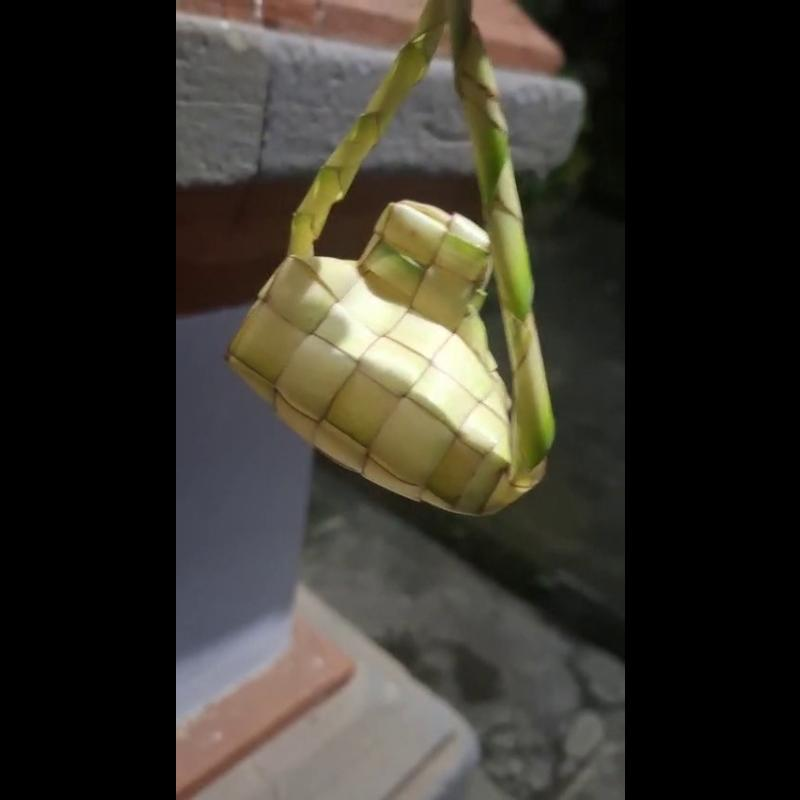Tipat Gong: (223, 0, 556, 528)
